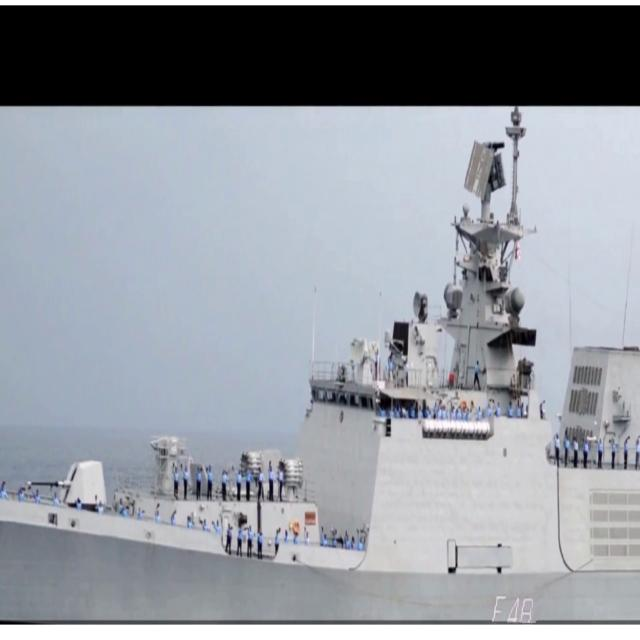OCR: (487, 586, 539, 623)
